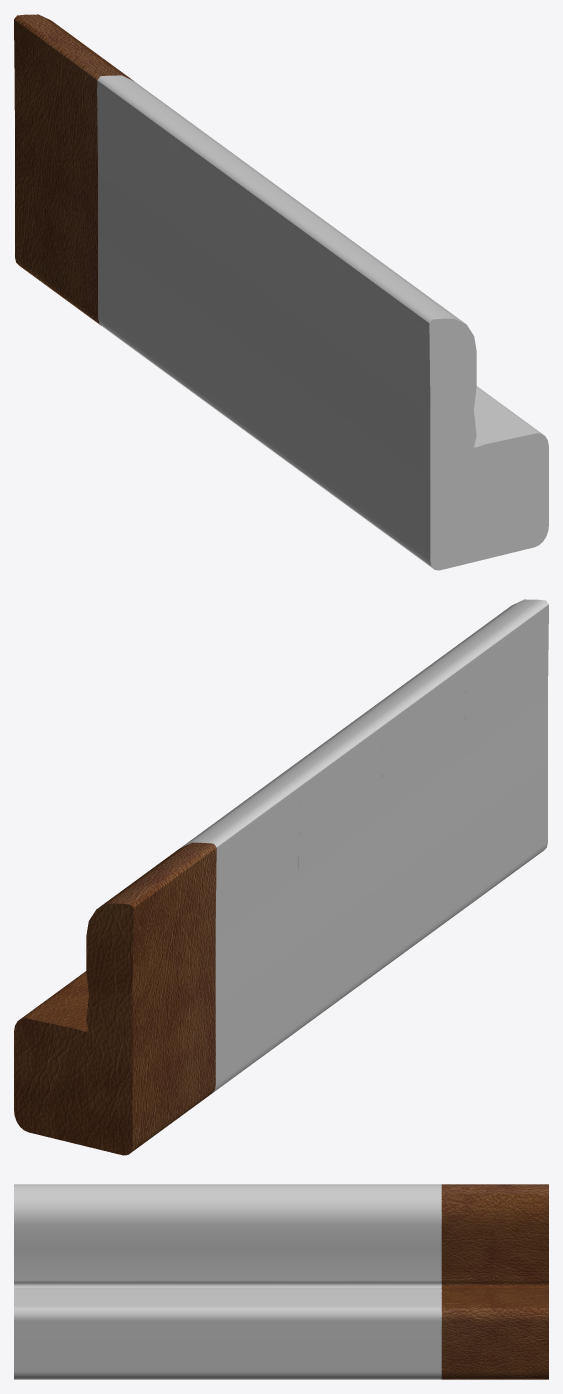
Rendered from sofa3.obj.
The picture shows the model from 3 angles, top to bottom: view 1: azimuth 30°, elevation 25°; view 2: azimuth 150°, elevation 25°; view 3: azimuth 270°, elevation 25°; orthographic projection. The views are drawn at different scales.
Visible parts, largest first — view 1: group62 _Cassette2:pCube7, group62 _Cassette2:pCube5, group62 _Cassette2:pCube6, pCube4 group62, group62 _Cassette2:pCube4; view 2: pCube4 group62, group62 _Cassette2:pCube5, group62 _Cassette2:pCube4, group62 _Cassette2:pCube7, group62 _Cassette2:pCube6; view 3: pCube4 group62, group62 _Cassette2:pCube7, group62 _Cassette2:pCube4, group62 _Cassette2:pCube5, group62 _Cassette2:pCube6.
Boxes of the visible parts, x1,y1,x2,y2 form: group62 _Cassette2:pCube7: (346, 257, 548, 570); group62 _Cassette2:pCube5: (180, 136, 299, 447); group62 _Cassette2:pCube6: (263, 197, 382, 508); pCube4 group62: (14, 14, 133, 325); group62 _Cassette2:pCube4: (97, 75, 216, 386); pCube4 group62: (14, 842, 216, 1155); group62 _Cassette2:pCube5: (263, 721, 382, 1032); group62 _Cassette2:pCube4: (180, 782, 299, 1093); group62 _Cassette2:pCube7: (429, 599, 548, 910); group62 _Cassette2:pCube6: (346, 660, 465, 971); pCube4 group62: (441, 1184, 548, 1379); group62 _Cassette2:pCube7: (14, 1184, 121, 1379); group62 _Cassette2:pCube4: (335, 1184, 441, 1379); group62 _Cassette2:pCube5: (228, 1184, 334, 1379); group62 _Cassette2:pCube6: (121, 1184, 227, 1379).
Bounding box in the file's own units: 49.87 × 101 × 300.
